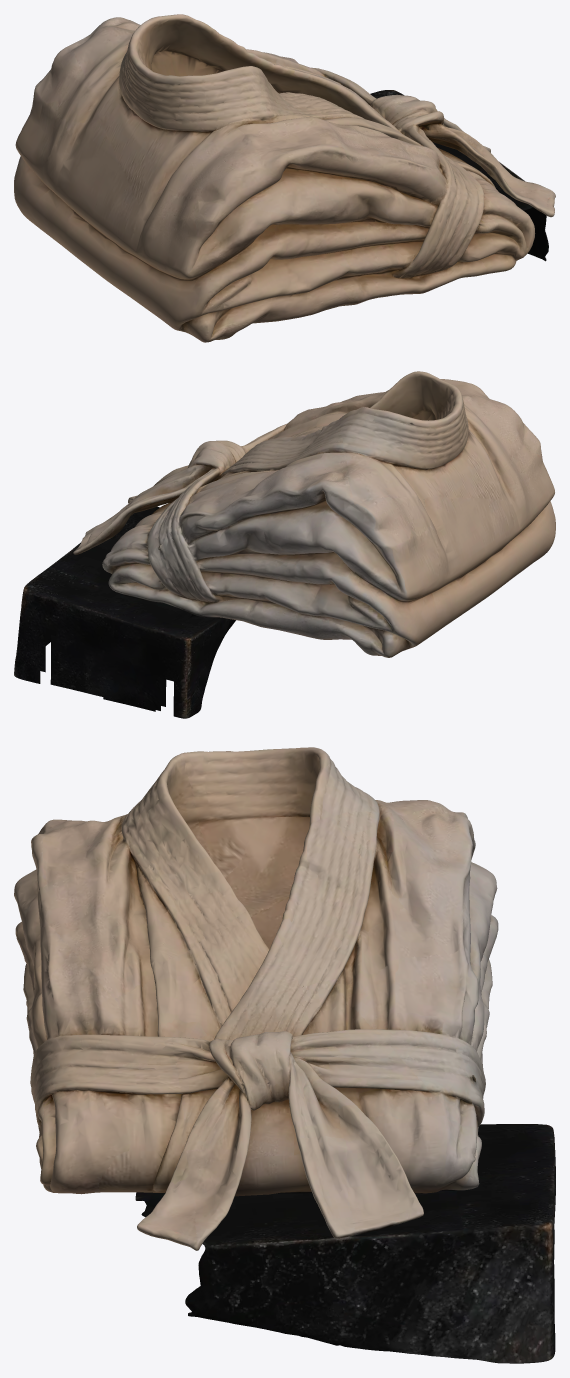
File: initiate-robe.glb
3 renders of one model, top to bottom at view 1: azimuth 30°, elevation 25°; view 2: azimuth 150°, elevation 25°; view 3: azimuth 270°, elevation 25°, orthographic. The views are drawn at different scales.
Visible parts, largest first — view 1: tripo_node_2443b29c-d376-4b4d-bec9-329e8a259c7b; view 2: tripo_node_2443b29c-d376-4b4d-bec9-329e8a259c7b; view 3: tripo_node_2443b29c-d376-4b4d-bec9-329e8a259c7b.
Boxes of the visible parts, x1,y1,x2,y2 form: tripo_node_2443b29c-d376-4b4d-bec9-329e8a259c7b: (14, 14, 555, 342); tripo_node_2443b29c-d376-4b4d-bec9-329e8a259c7b: (14, 371, 555, 718); tripo_node_2443b29c-d376-4b4d-bec9-329e8a259c7b: (14, 747, 555, 1363).
Size of the model in its own units: 0.9999 by 0.6962 by 0.855.
Materials: 1 (1 with a texture image).
